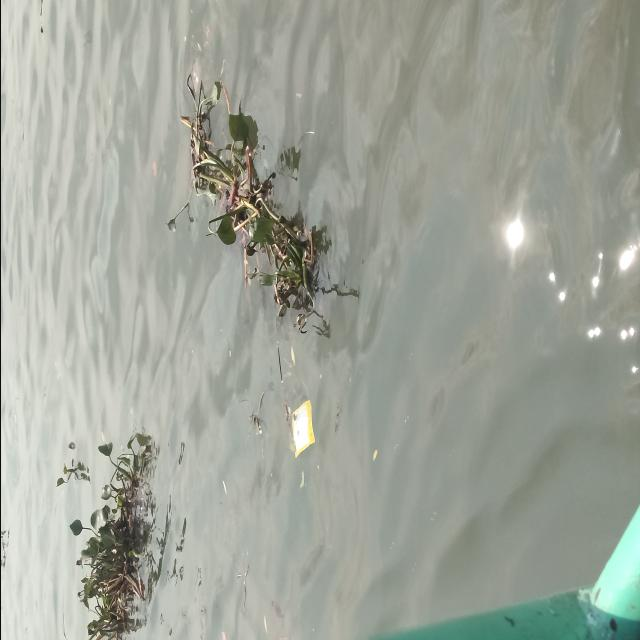Other plastic: (291, 399, 314, 459)
